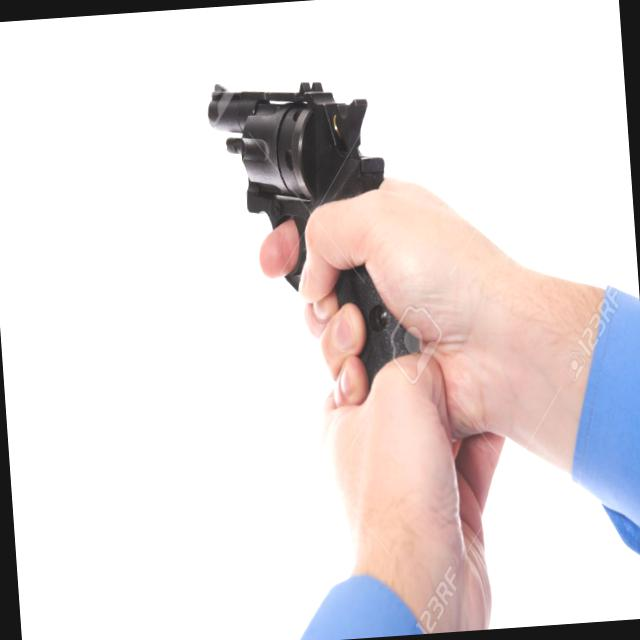handgun: (196, 48, 434, 440)
